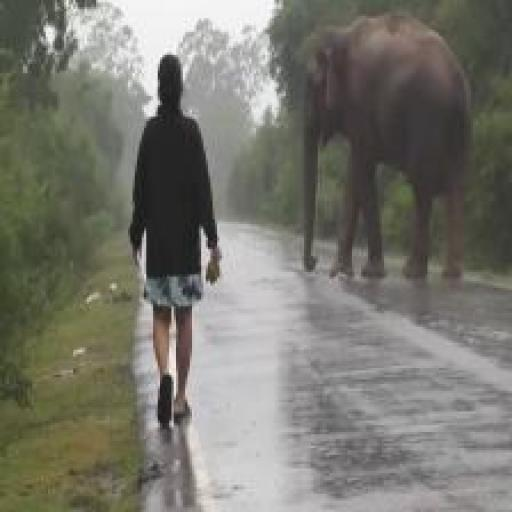Elephant: (288, 14, 495, 308)
